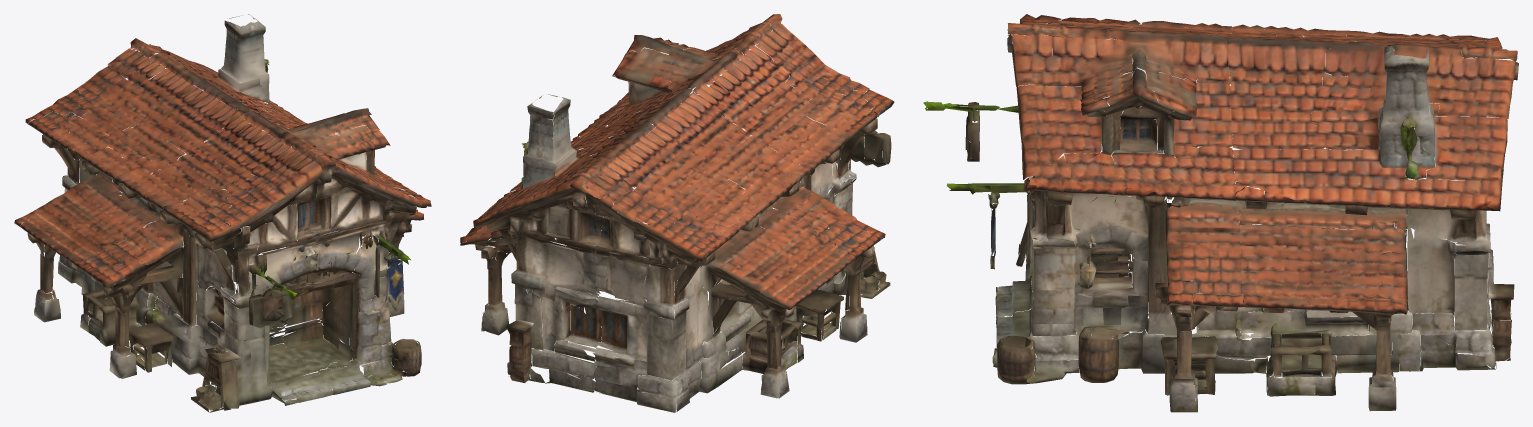
Rendered from Piece03.glb.
The picture shows the model from 3 angles, left to right: view 1: azimuth 30°, elevation 25°; view 2: azimuth 150°, elevation 25°; view 3: azimuth 270°, elevation 25°; orthographic projection. The views are drawn at different scales.
Parts seen in each view (by area): view 1: Eldoria_MultiPiece_Group_03; view 2: Eldoria_MultiPiece_Group_03; view 3: Eldoria_MultiPiece_Group_03.
Part boxes in pixels (left/top/right/bottom): Eldoria_MultiPiece_Group_03: left=14, top=14, right=431, bottom=412; Eldoria_MultiPiece_Group_03: left=460, top=14, right=894, bottom=412; Eldoria_MultiPiece_Group_03: left=923, top=14, right=1518, bottom=412.
Size of the model in its own units: 0.4538 by 0.3317 by 0.5591.
1 material, 1 textured.
